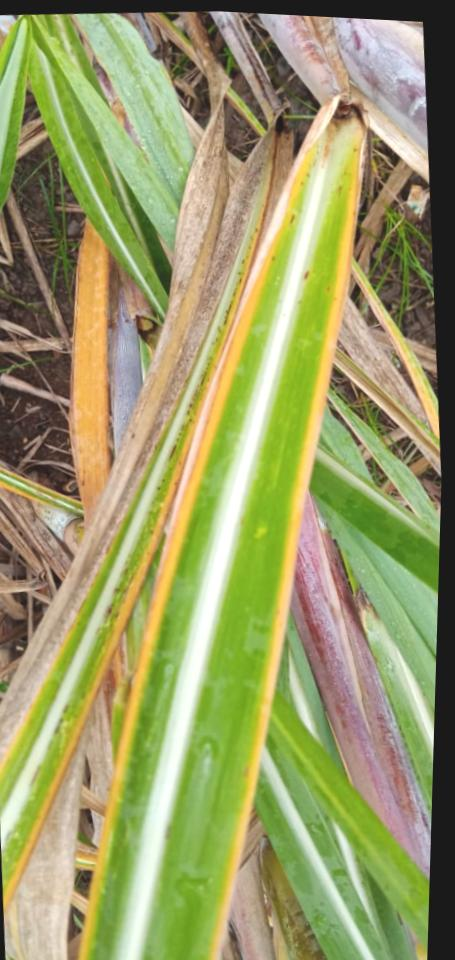RedRot: (320, 144, 330, 164)
Rust: (28, 764, 41, 787), (222, 300, 233, 326), (52, 717, 65, 736), (166, 443, 178, 463), (196, 371, 207, 392), (191, 383, 199, 401), (104, 606, 113, 619), (301, 269, 310, 281), (60, 703, 69, 715), (288, 213, 296, 225), (230, 286, 237, 297), (336, 185, 342, 195), (113, 610, 119, 619), (304, 172, 311, 179), (123, 567, 129, 575), (112, 587, 120, 593), (187, 401, 193, 409), (324, 284, 330, 292), (252, 225, 258, 233), (239, 258, 246, 264), (185, 408, 190, 416), (269, 256, 275, 262), (237, 277, 242, 284), (156, 485, 161, 491), (187, 417, 192, 423), (248, 235, 254, 240), (180, 423, 184, 430), (160, 477, 165, 482), (296, 299, 301, 304), (342, 170, 347, 175), (298, 181, 303, 186), (109, 602, 114, 606), (351, 148, 356, 152), (236, 270, 240, 275), (332, 297, 337, 301), (149, 530, 153, 534), (177, 432, 181, 436), (176, 437, 179, 442), (168, 467, 172, 470), (206, 362, 209, 366), (204, 366, 207, 370), (245, 254, 248, 258), (216, 325, 219, 329), (214, 337, 217, 341), (210, 340, 213, 344), (248, 246, 251, 249), (235, 283, 238, 285), (218, 329, 220, 332)
Yellow: (76, 149, 312, 960), (204, 128, 366, 960), (3, 433, 193, 912), (71, 214, 108, 517)
